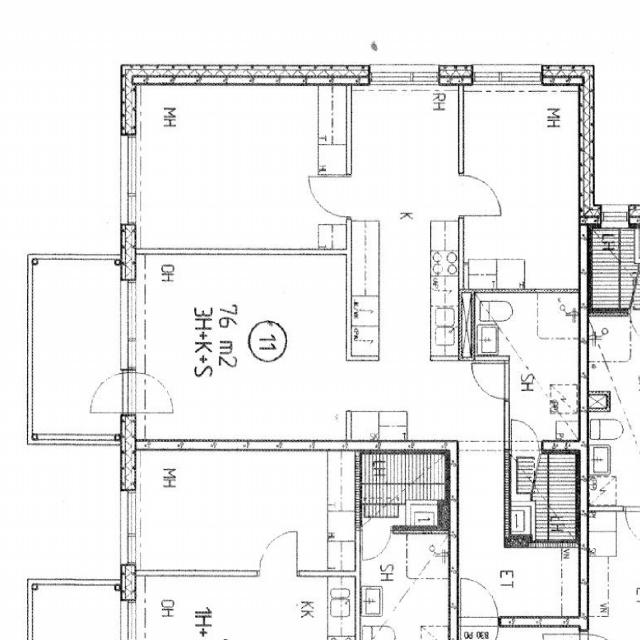door: (82, 372, 136, 413), (120, 372, 173, 413), (459, 576, 497, 627), (308, 177, 350, 217), (458, 176, 500, 216), (471, 364, 508, 398), (511, 412, 538, 454), (459, 616, 497, 640)
